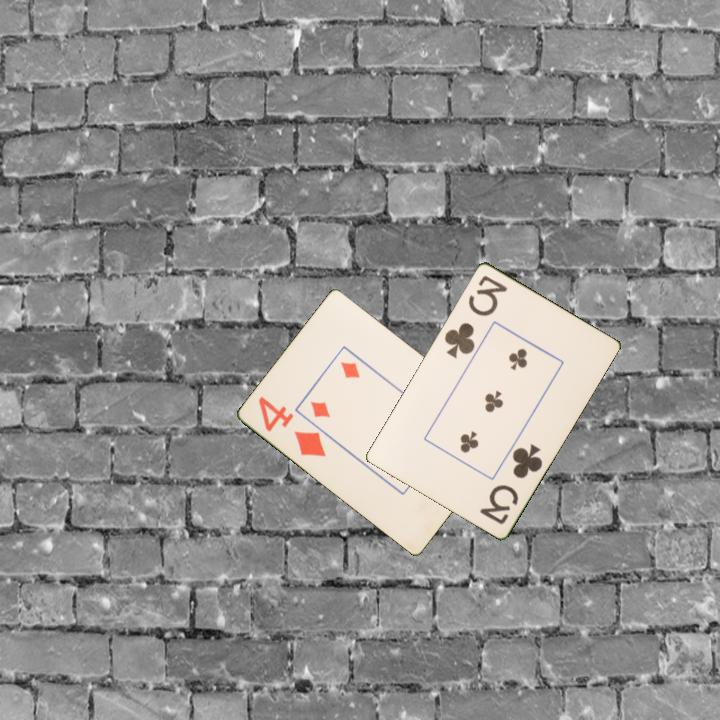3c: (441, 271, 510, 361), (476, 439, 546, 527)
4d: (255, 392, 330, 460)
